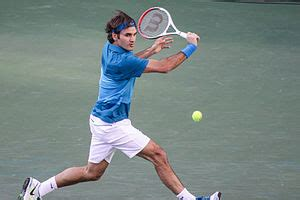tennis_ball: (192, 110, 202, 121)
